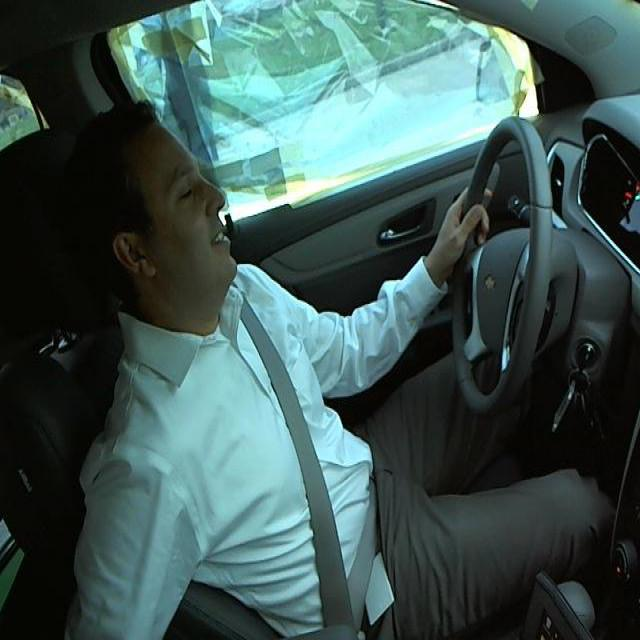seatbelt: (246, 316, 385, 637)
